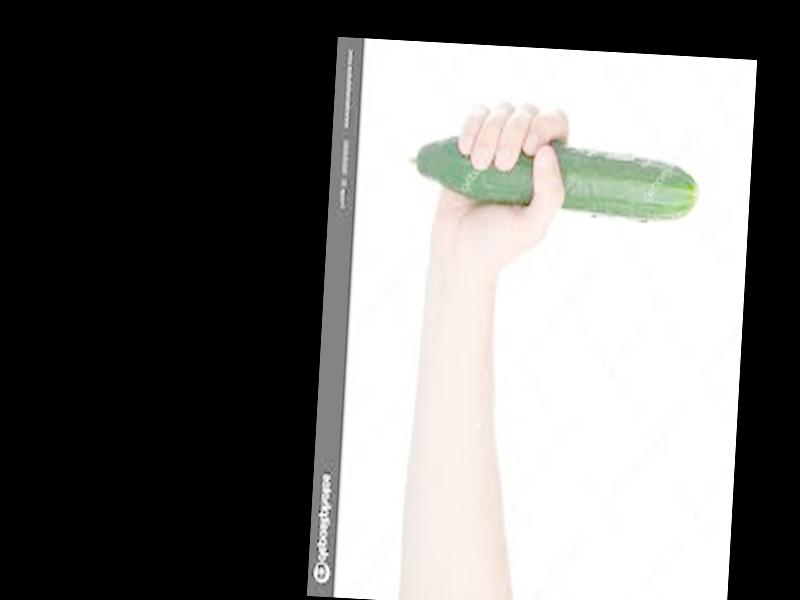Cucumber: (408, 133, 700, 222)
